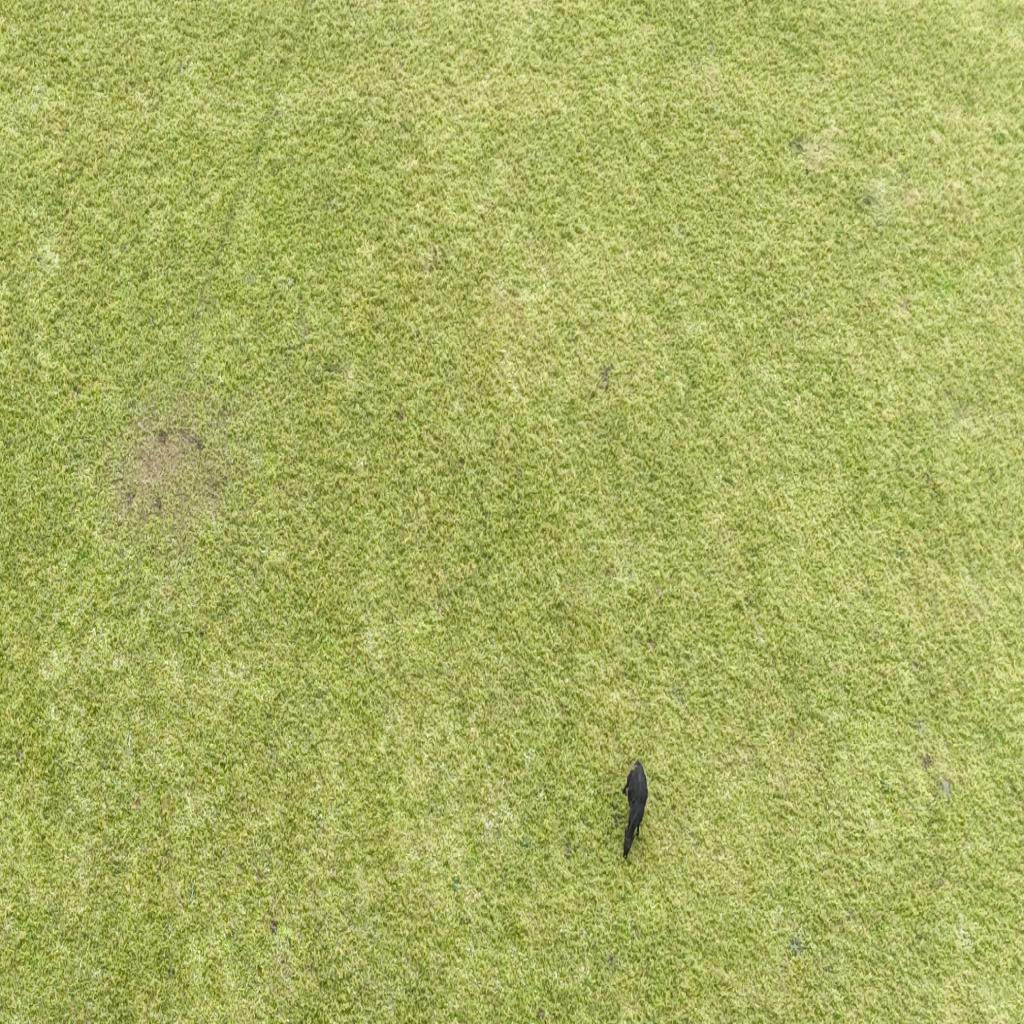cow: (620, 753, 651, 860)
